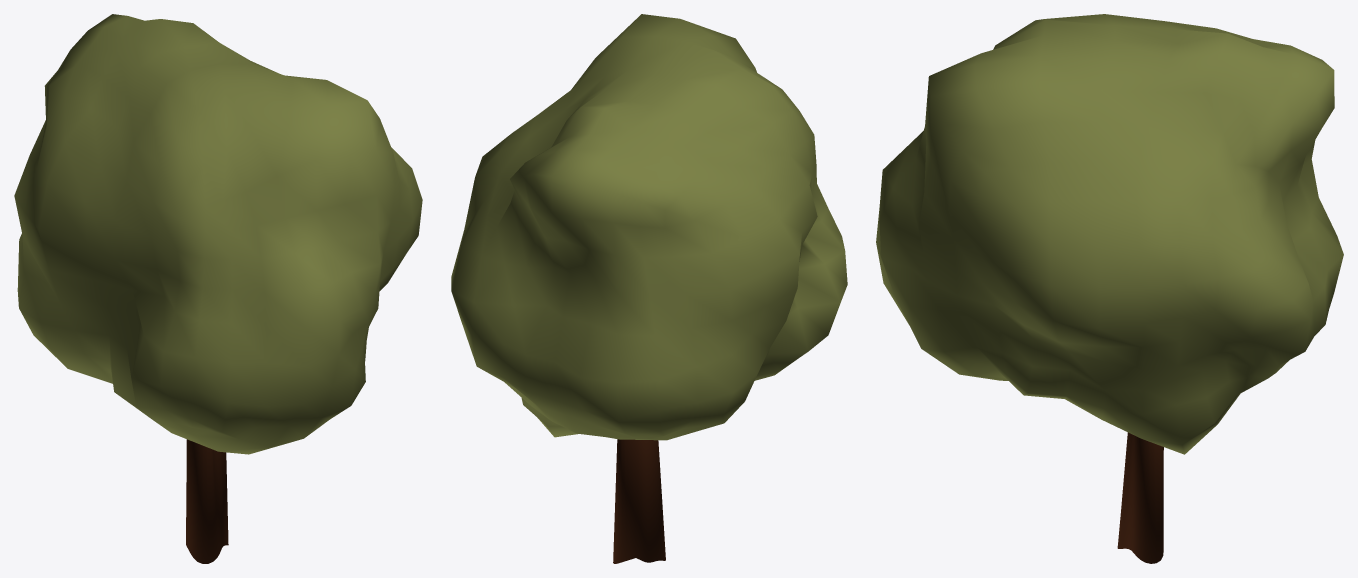
File: strom2.fbx
3 views of the same model, side by side, from view 1: azimuth 30°, elevation 25°; view 2: azimuth 150°, elevation 25°; view 3: azimuth 270°, elevation 25° (orthographic). The views are drawn at different scales.
Parts seen in each view (by area): view 1: Cube; view 2: Cube; view 3: Cube.
Boxes of the visible parts, x1,y1,x2,y2 form: Cube: (14,14,422,563); Cube: (451,14,847,563); Cube: (876,14,1343,563).
Bounding box in the file's own units: 296 × 414 × 339.
